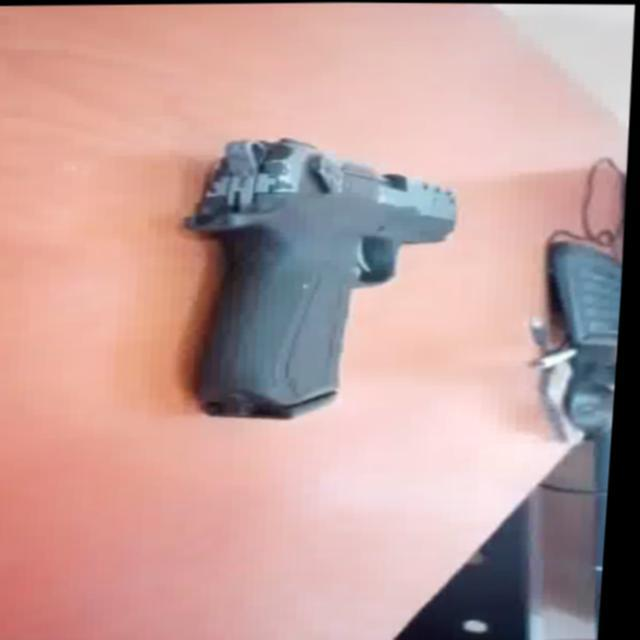weapon: (173, 130, 468, 420)
